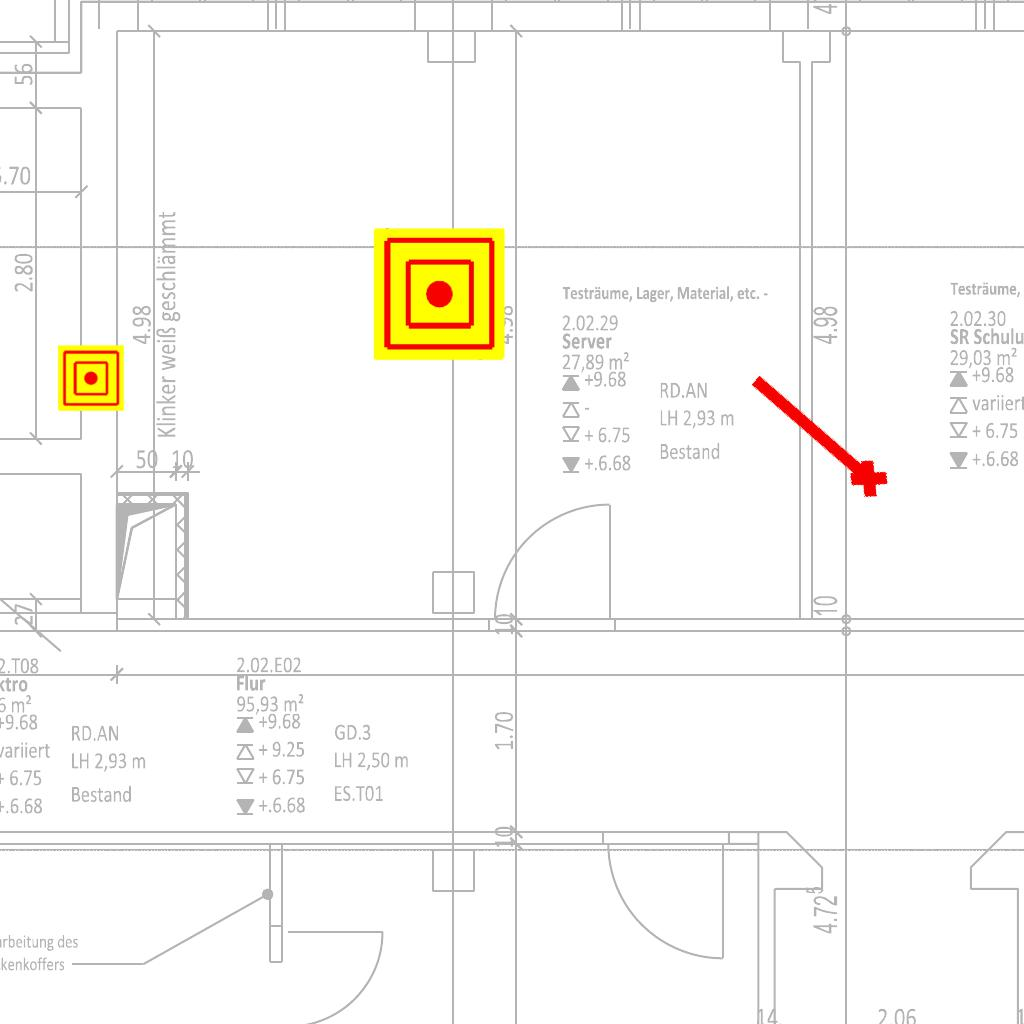ASR_Ansaugoeffnung: (734, 360, 898, 512)
NAM-Nichtautomatischer_Melder: (373, 228, 505, 360), (58, 345, 124, 411)
